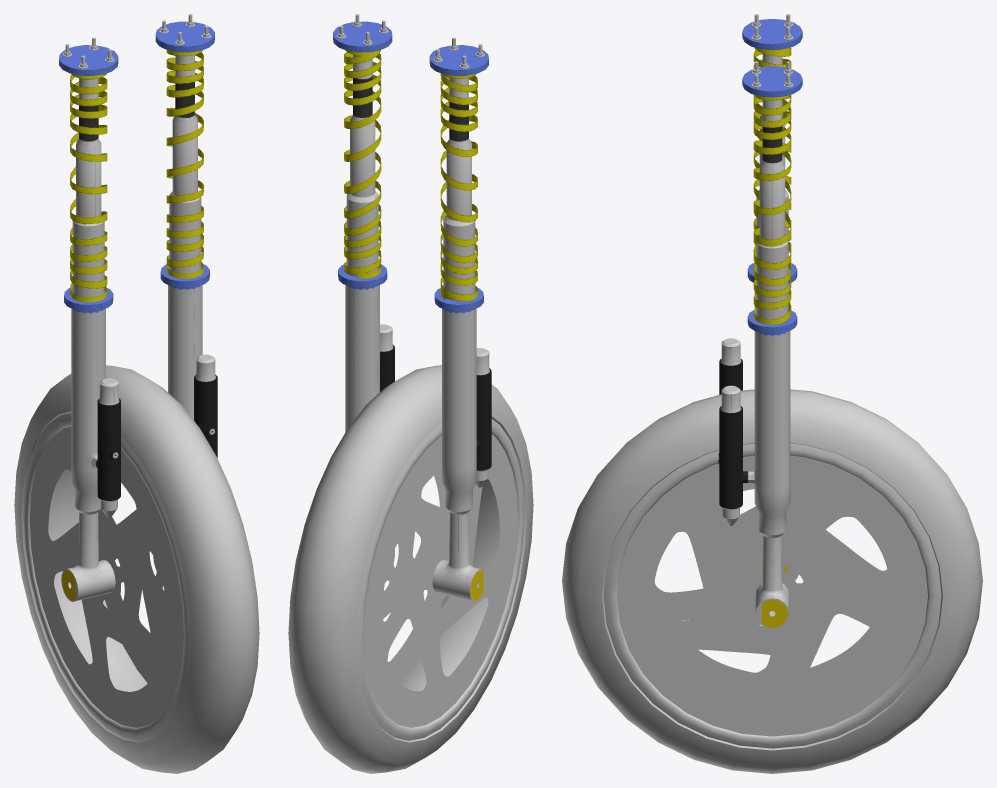
File: damp.fbx
3 renders of one model, left to right at view 1: azimuth 30°, elevation 25°; view 2: azimuth 150°, elevation 25°; view 3: azimuth 270°, elevation 25°, orthographic.
Visible parts, largest first — view 1: Tire.001, damp.002, damp.001; view 2: Tire.001, damp.002, damp.001; view 3: Tire.001, damp.001, damp.002.
Boxes of the visible parts, x1=… form: Tire.001: x1=14, y1=365, x2=259, y2=773; damp.002: x1=59, y1=37, x2=120, y2=601; damp.001: x1=155, y1=14, x2=217, y2=457; Tire.001: x1=288, y1=365, x2=533, y2=773; damp.002: x1=429, y1=37, x2=491, y2=601; damp.001: x1=333, y1=14, x2=394, y2=562; Tire.001: x1=562, y1=389, x2=982, y2=773; damp.001: x1=718, y1=61, x2=802, y2=628; damp.002: x1=719, y1=14, x2=802, y2=573.
Bounding box in the file's own units: 0.4005 × 1.86 × 0.978.
